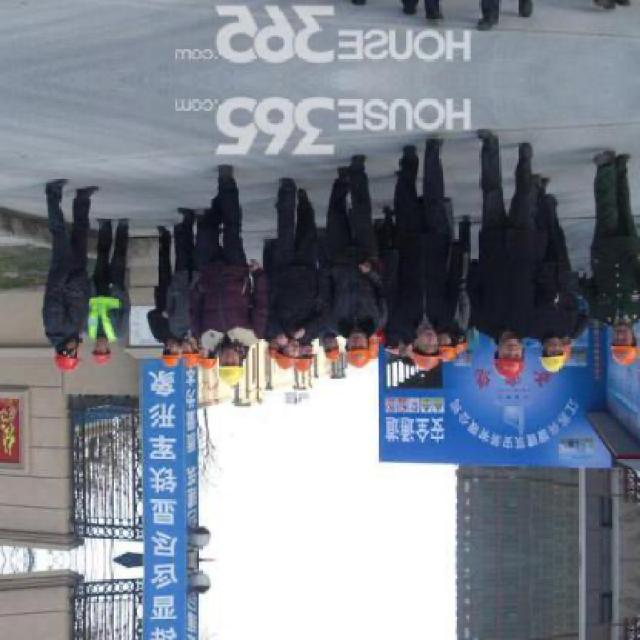con casco: (470, 326, 528, 378), (43, 336, 101, 378), (333, 336, 378, 378), (404, 332, 436, 386), (263, 348, 312, 382), (604, 334, 640, 376), (529, 342, 578, 372), (73, 341, 122, 366), (223, 348, 249, 376), (168, 348, 201, 370)
